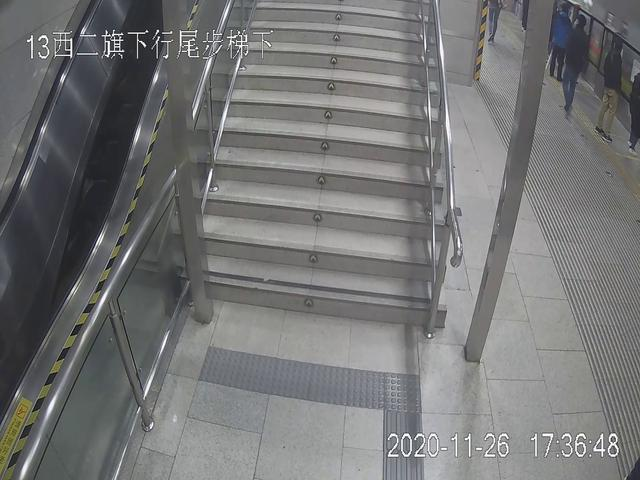person: (597, 31, 628, 147), (563, 14, 596, 118)
